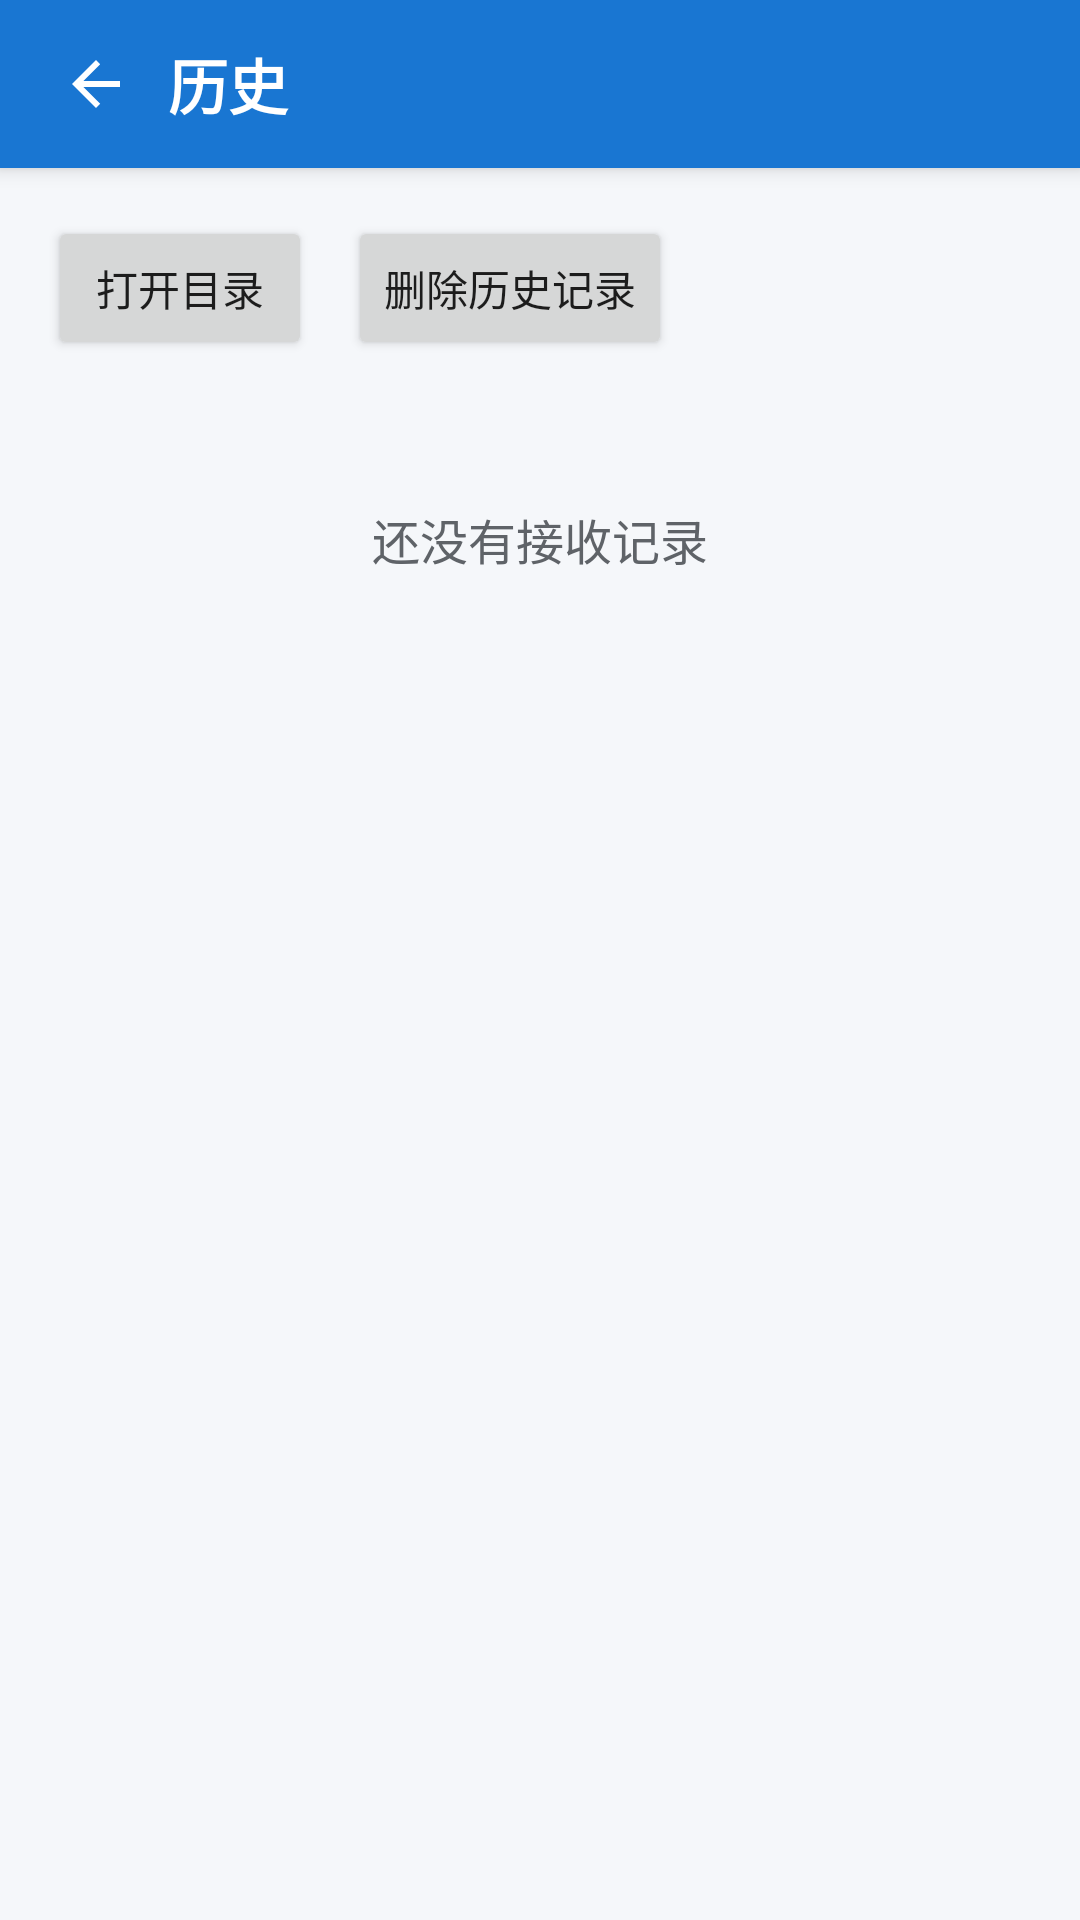

Point at icon controls on the screen. Image size 1080x1920, points as (x=x, y=y).
返回: (x=96, y=84)
